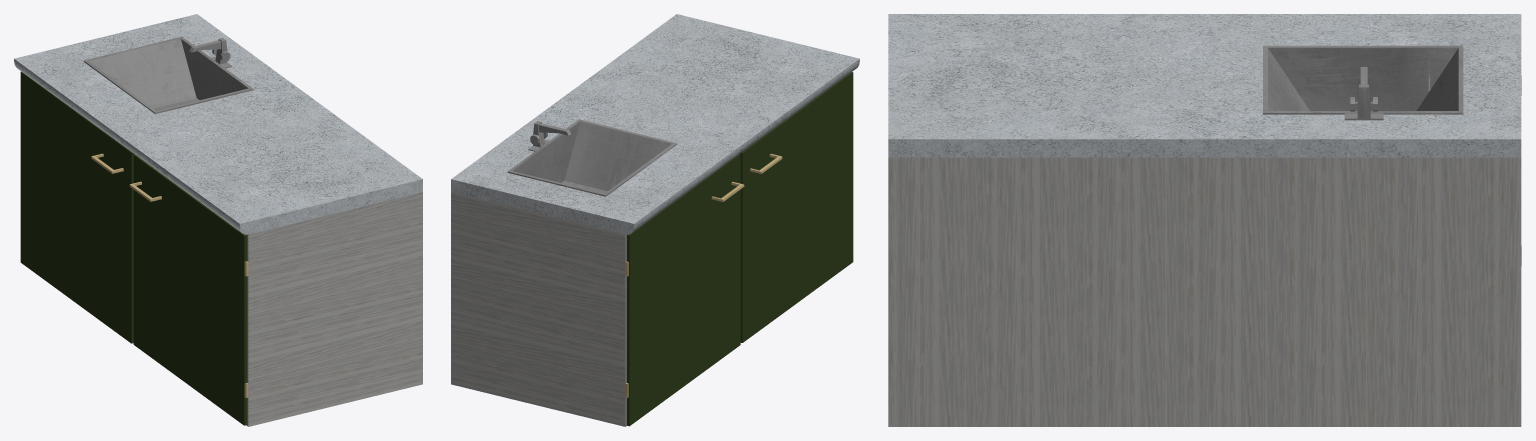
The model's file is SinkCounter.fbx.
The picture shows the model from 3 angles, left to right: view 1: azimuth 30°, elevation 25°; view 2: azimuth 150°, elevation 25°; view 3: azimuth 270°, elevation 25°; orthographic projection. The views are drawn at different scales.
Visible parts, largest first — view 1: SinkCounter; view 2: SinkCounter; view 3: SinkCounter.
Part boxes in pixels (x1,y1,x2,y2): SinkCounter: [14, 14, 422, 426]; SinkCounter: [451, 14, 859, 426]; SinkCounter: [888, 14, 1521, 426].
Bounding box in the file's own units: 95.69 × 110 × 198.
1 material, 1 textured.
